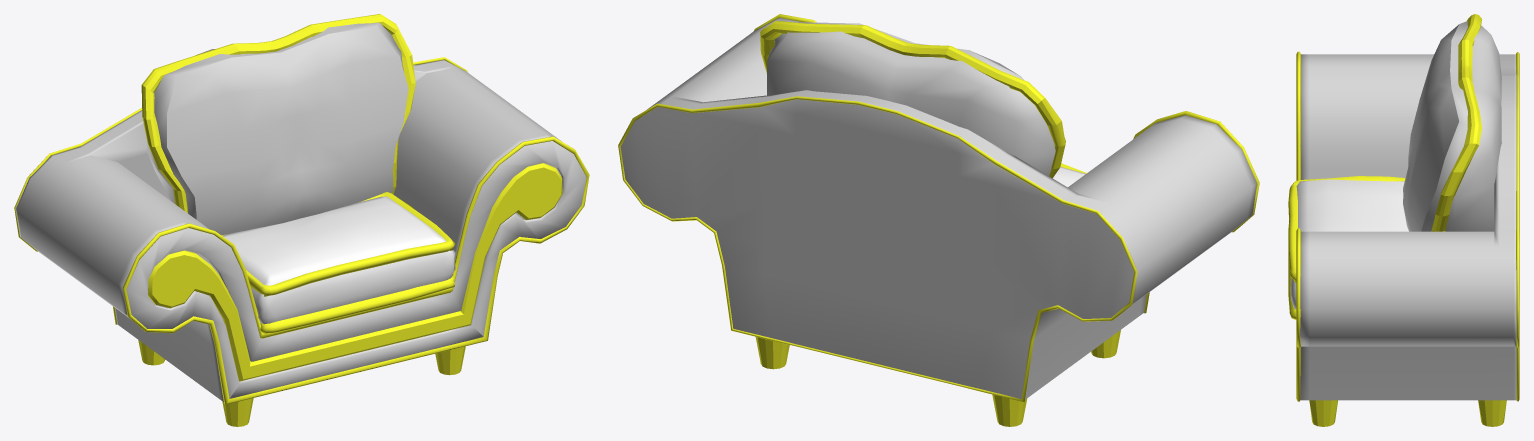
Rendered from Sofa_Small.obj.
3 views of the same model, side by side, from view 1: azimuth 30°, elevation 25°; view 2: azimuth 150°, elevation 25°; view 3: azimuth 270°, elevation 25° (orthographic). The views are drawn at different scales.
Visible parts, largest first — view 1: SofaSmall SofaLarge_low, SofaSmall SofaCushionBack_low, SofaSmall SofaCushion_low, SofaSmall SofaDetails_low, SofaSmall SofaDetailsFront_low, SofaSmall SofaCushionBackDetails_low, SofaSmall SofaCushionDetails_low, SofaSmall SofaLegs_low, SofaSmall SofaDetailsBack_low; view 2: SofaSmall SofaLarge_low, SofaSmall SofaCushionBack_low, SofaSmall SofaDetailsBack_low, SofaSmall SofaCushionBackDetails_low, SofaSmall SofaLegs_low, SofaSmall SofaDetailsFront_low; view 3: SofaSmall SofaLarge_low, SofaSmall SofaCushionBack_low, SofaSmall SofaCushion_low, SofaSmall SofaCushionBackDetails_low, SofaSmall SofaDetailsFront_low, SofaSmall SofaCushionDetails_low, SofaSmall SofaDetailsBack_low, SofaSmall SofaLegs_low.
Part boxes in pixels (x1,y1,x2,y2): SofaSmall SofaLarge_low: [15, 60, 586, 401]; SofaSmall SofaCushionBack_low: [147, 22, 408, 235]; SofaSmall SofaCushion_low: [222, 196, 455, 324]; SofaSmall SofaDetails_low: [148, 163, 562, 381]; SofaSmall SofaDetailsFront_low: [123, 136, 589, 404]; SofaSmall SofaCushionBackDetails_low: [141, 14, 415, 213]; SofaSmall SofaCushionDetails_low: [221, 192, 455, 334]; SofaSmall SofaLegs_low: [138, 340, 465, 426]; SofaSmall SofaDetailsBack_low: [14, 57, 467, 324]; SofaSmall SofaLarge_low: [620, 18, 1256, 399]; SofaSmall SofaCushionBack_low: [767, 22, 1055, 175]; SofaSmall SofaDetailsBack_low: [618, 96, 1137, 402]; SofaSmall SofaCushionBackDetails_low: [760, 21, 1065, 178]; SofaSmall SofaLegs_low: [755, 330, 1120, 426]; SofaSmall SofaDetailsFront_low: [753, 14, 1259, 313]; SofaSmall SofaLarge_low: [1300, 54, 1516, 400]; SofaSmall SofaCushionBack_low: [1403, 21, 1501, 231]; SofaSmall SofaCushion_low: [1290, 179, 1408, 309]; SofaSmall SofaCushionBackDetails_low: [1431, 14, 1481, 231]; SofaSmall SofaDetailsFront_low: [1296, 51, 1300, 401]; SofaSmall SofaCushionDetails_low: [1288, 176, 1405, 319]; SofaSmall SofaDetailsBack_low: [1516, 52, 1519, 401]; SofaSmall SofaLegs_low: [1309, 400, 1506, 426].
Bounding box in the file's own units: 110 × 69.93 × 47.03.
